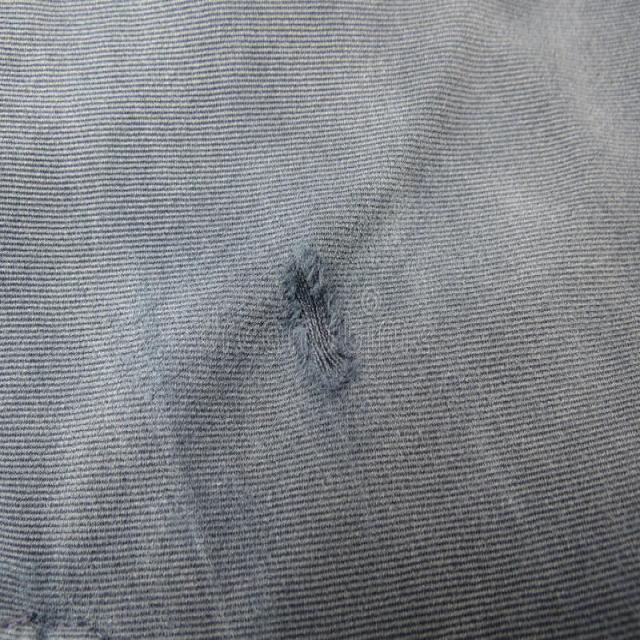Hole: (279, 245, 354, 392)
